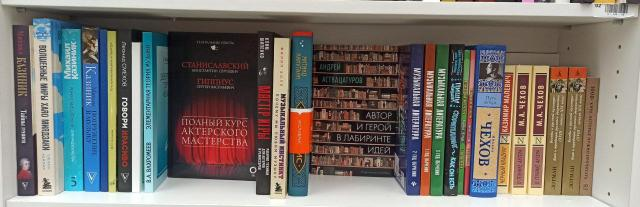book-s-spine: (470, 45, 506, 197), (289, 32, 312, 196), (13, 25, 35, 196), (33, 19, 54, 196), (62, 30, 83, 191), (562, 68, 587, 195), (270, 38, 289, 198), (256, 31, 274, 195), (545, 68, 568, 195), (445, 45, 464, 195), (82, 27, 99, 191), (431, 45, 449, 195), (529, 66, 549, 195), (512, 66, 532, 194), (580, 78, 600, 195), (497, 66, 515, 193), (408, 44, 423, 195), (118, 29, 131, 192), (421, 44, 435, 195), (458, 51, 470, 194), (143, 32, 153, 193), (464, 51, 475, 195), (108, 32, 116, 192)
